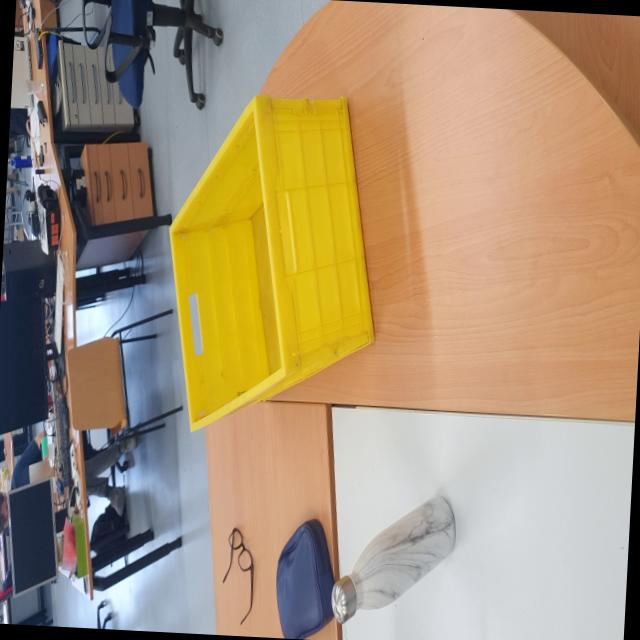box: (156, 49, 391, 454)
